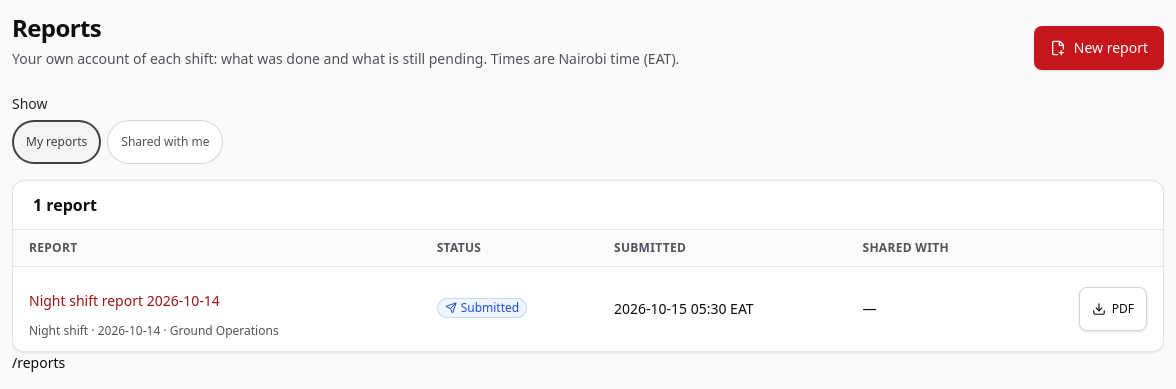
Reports page - staff › lists my reports and switches to Shared with me
expect the link "Night shift report 2026-10-14" is shown: met, box [29, 291, 220, 310]
Click the radio button labelled "Shared with me": (165, 142) [107, 120, 223, 164]
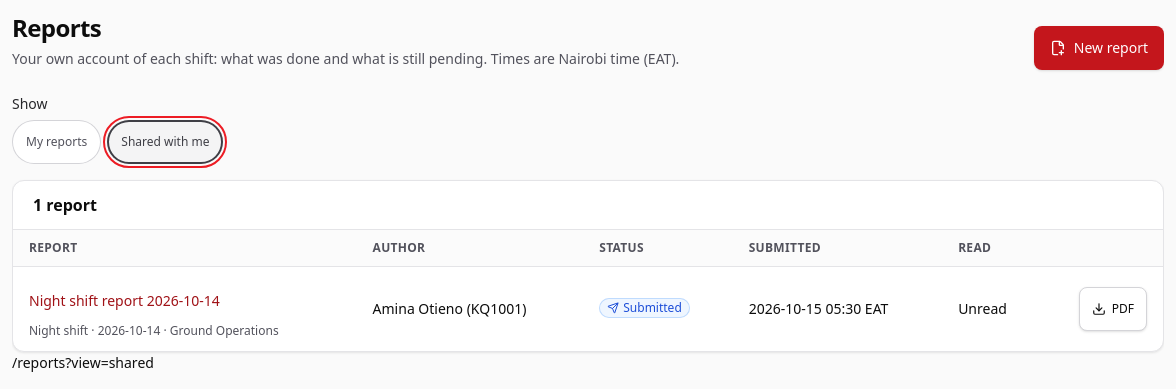
expect the text with test id "where" reads "/reports?view=shared": met, box [12, 353, 154, 372]
